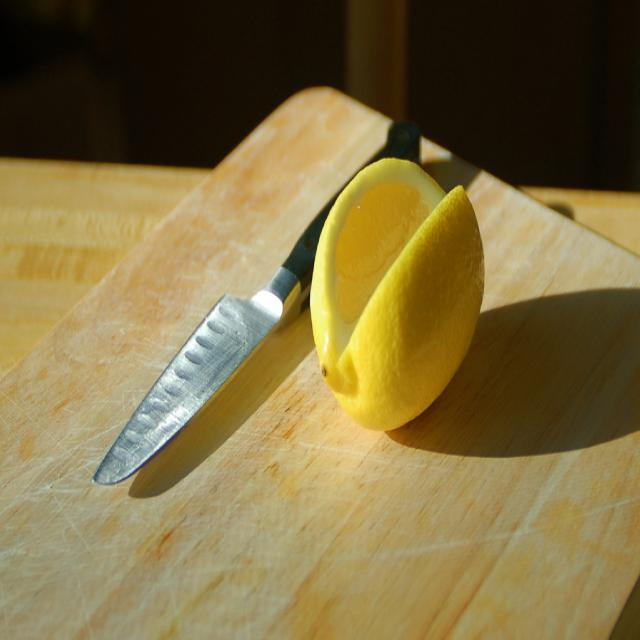Knife: (94, 191, 339, 484), (366, 124, 420, 164)
